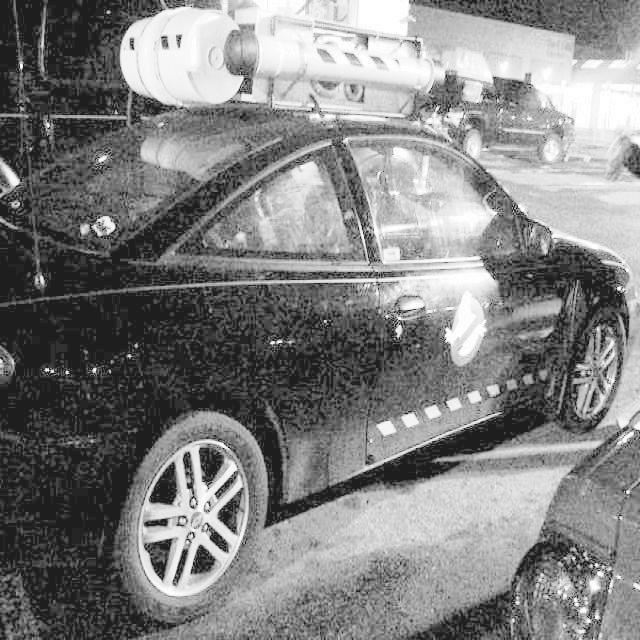Car: (0, 115, 639, 531), (463, 61, 587, 162)
